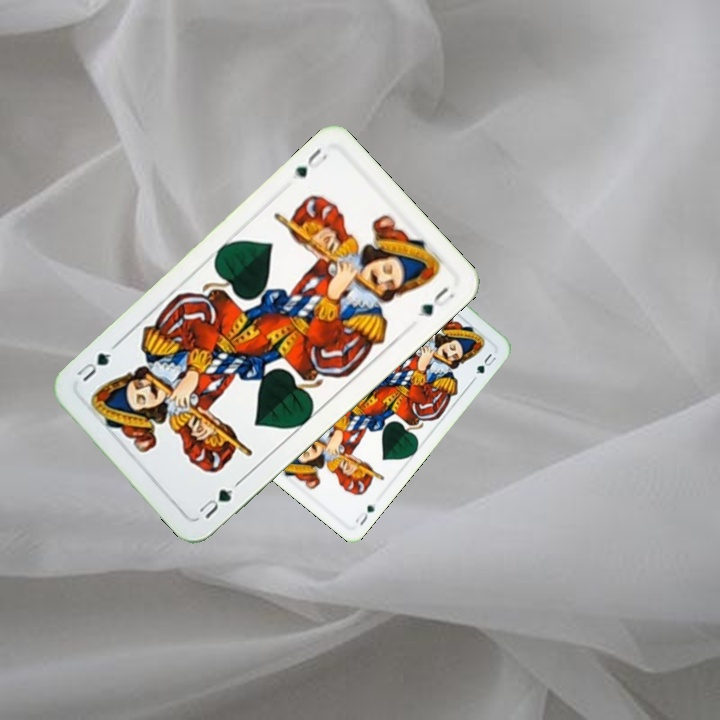GU: (192, 485, 236, 522), (290, 144, 330, 180), (351, 498, 379, 529)
